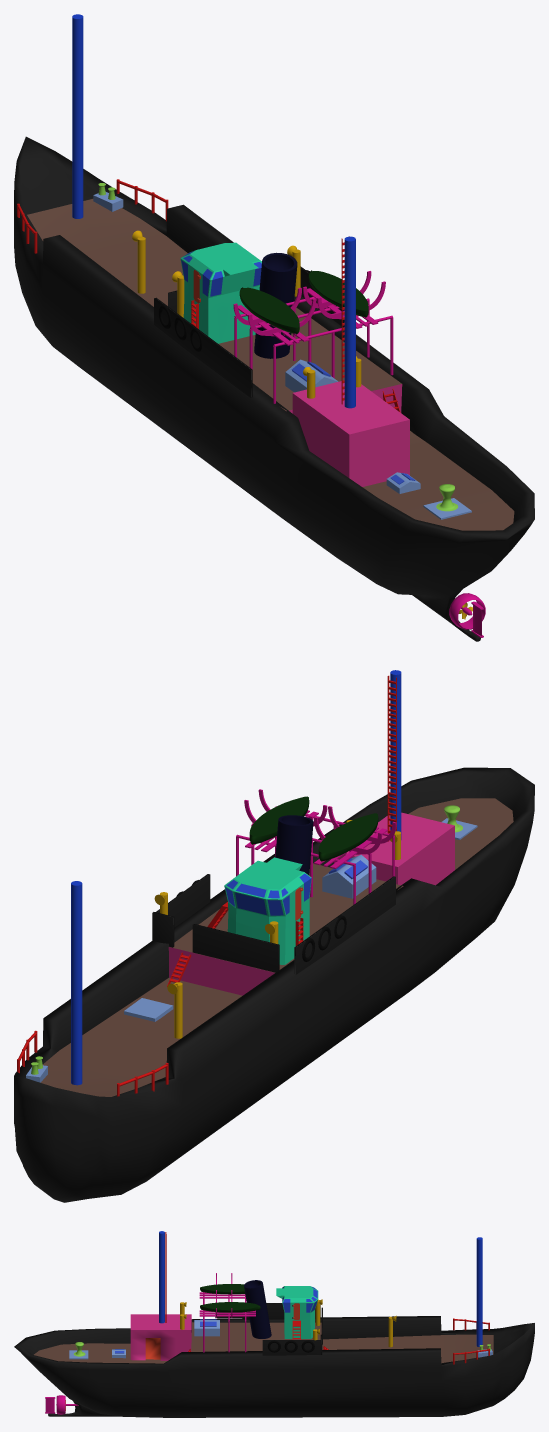
File: schiff_final_v2.obj
3 renders of one model, top to bottom at view 1: azimuth 30°, elevation 25°; view 2: azimuth 150°, elevation 25°; view 3: azimuth 270°, elevation 25°, orthographic. The views are drawn at different scales.
Visible parts, largest first — view 1: group1_pasted__tugboat_prop3_pasted__polySurface506_group1_paste; view 2: group1_pasted__tugboat_prop3_pasted__polySurface506_group1_paste; view 3: group1_pasted__tugboat_prop3_pasted__polySurface506_group1_paste.
Boxes of the visible parts, x1,y1,x2,y2 form: group1_pasted__tugboat_prop3_pasted__polySurface506_group1_paste: (14, 14, 534, 641); group1_pasted__tugboat_prop3_pasted__polySurface506_group1_paste: (14, 670, 534, 1202); group1_pasted__tugboat_prop3_pasted__polySurface506_group1_paste: (14, 1231, 534, 1417).
Size of the model in its own units: 667 by 1431 by 3793.
